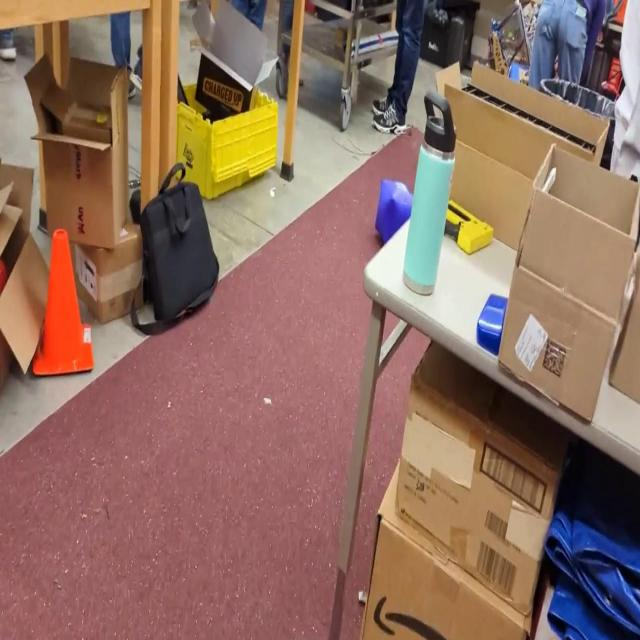frc_cube: (373, 178, 419, 252)
